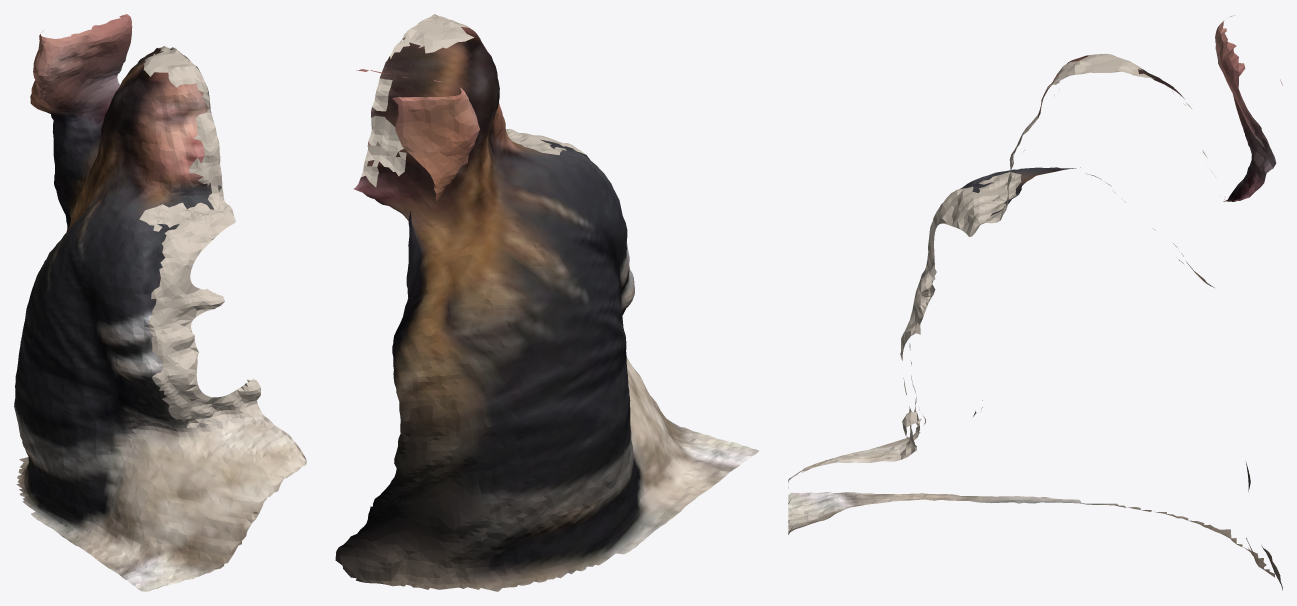
The picture shows the model from 3 angles, left to right: view 1: azimuth 30°, elevation 25°; view 2: azimuth 150°, elevation 25°; view 3: azimuth 270°, elevation 25°; orthographic projection. The views are drawn at different scales.
Bounding box in the file's own units: 0.3189 × 0.7664 × 0.6454.
1 material, 1 textured.
